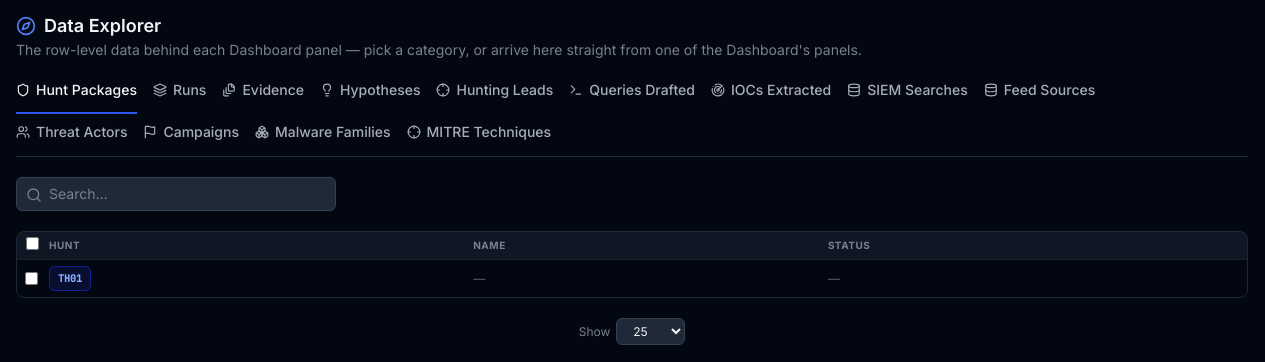
Test: DataExplorer — Archived tag (issue-local-034) › shows an Archived badge on an archived run row
The width and height of the screenshot is (1265, 362).
Step 1. Click the button "Runs" → {"x": 180, "y": 97}, box [153, 80, 206, 114]
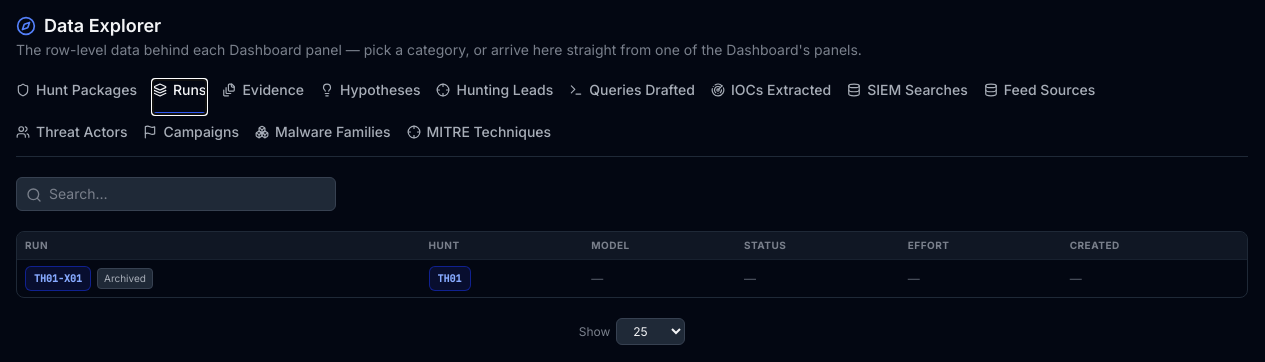
Result: the text "Archived" is shown at [97, 268, 153, 289]
